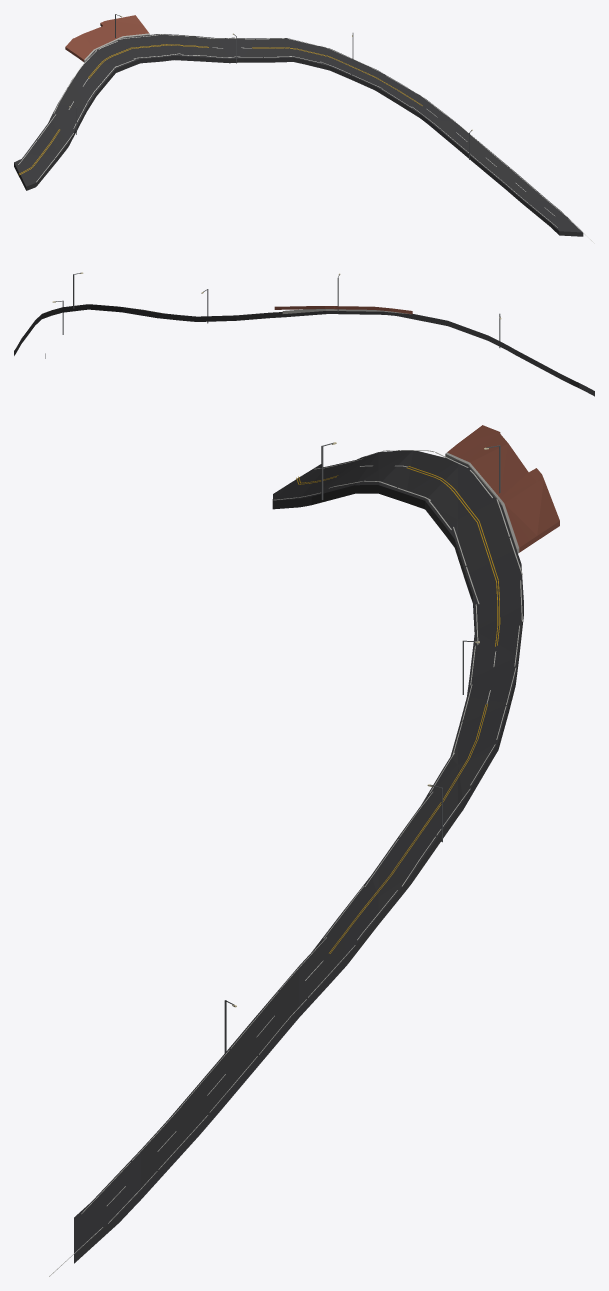
The picture shows the model from 3 angles, top to bottom: view 1: azimuth 30°, elevation 25°; view 2: azimuth 150°, elevation 25°; view 3: azimuth 270°, elevation 25°; orthographic projection. The views are drawn at different scales.
Bounding box in the file's own units: 150 × 65.89 × 64.49.
